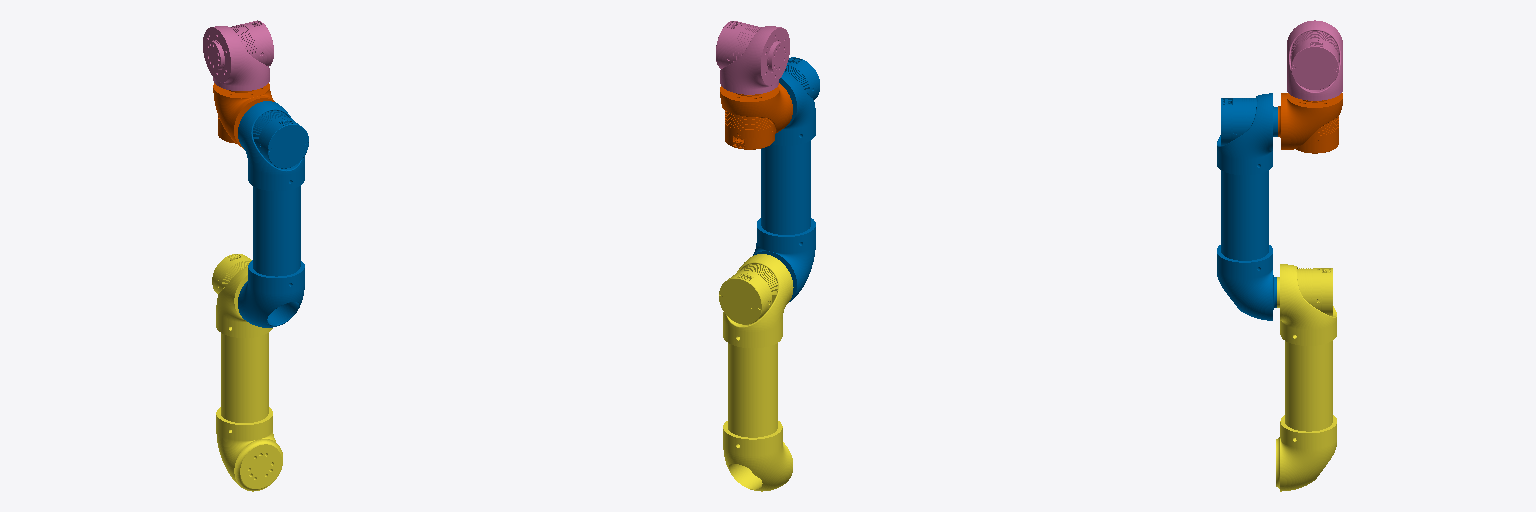
The robot description file, URDF, robot "ur5e_arm_only":
<?xml version="1.0" encoding="utf-8"?>
<robot name="ur5e_arm_only">

<!--Rotations
Clockwise 90: -1.57079632679
Counter Clockwise 90: 1.57079632679
180: 3.14159265359
-->

  <!-- ==================== UR5e Links ==================== -->
  <link name="base_link"/>

  <link name="base_link_inertia">
    <visual>
      <origin rpy="0 0 0" xyz="0 0 0"/>
      <geometry><mesh filename="package://description/meshes/6dof/base.stl" scale="0.001 0.001 0.001"/></geometry>
    </visual>
    <collision>
      <origin rpy="0 0 0" xyz="0 0 0"/>
      <geometry><mesh filename="package://description/meshes/6dof/base.stl" scale="0.001 0.001 0.001"/></geometry>
    </collision>
    <inertial>
      <mass value="4.0"/>
      <origin rpy="0 0 0" xyz="0 0 0"/>
      <inertia ixx="0.00443333156" ixy="0.0" ixz="0.0" iyy="0.00443333156" iyz="0.0" izz="0.0072"/>
    </inertial>
  </link>

  <link name="shoulder_link">
    <visual>
      <origin rpy="0 0 0" xyz="0 0 0"/>
      <geometry><mesh filename="package://description/meshes/6dof/shoulder.stl" scale="0.001 0.001 0.001"/></geometry>
    </visual>
    <collision>
      <origin rpy="0 0 0" xyz="0 0 0"/>
      <geometry><mesh filename="package://description/meshes/6dof/shoulder.stl" scale="0.001 0.001 0.001"/></geometry>
    </collision>
    <inertial>
      <mass value="3.7"/>
      <origin rpy="0 0 0" xyz="0 0 0"/>
      <inertia ixx="0.010267495893" ixy="0.0" ixz="0.0" iyy="0.010267495893" iyz="0.0" izz="0.00666"/>
    </inertial>
  </link>

  <link name="upper_arm_link">
    <visual>
      <origin rpy="0 0 0" xyz="0 0 0"/>
      <geometry><mesh filename="package://description/meshes/6dof/upperarm.stl" scale="0.001 0.001 0.001"/></geometry>
    </visual>
    <collision>
      <origin rpy="0 0 0" xyz="0 0 0"/>
      <geometry><mesh filename="package://description/meshes/6dof/upperarm.stl" scale="0.001 0.001 0.001"/></geometry>
    </collision>
    <inertial>
      <mass value="8.393"/>
      <origin rpy="0 0 0" xyz="0 0 0"/>
      <inertia ixx="0.133885781862" ixy="0.0" ixz="0.0" iyy="0.133885781862" iyz="0.0" izz="0.0151074"/>
    </inertial>
  </link>

  <link name="forearm_link">
    <visual>
      <origin rpy="0 0 0" xyz="0 0 0"/>
      <geometry><mesh filename="package://description/meshes/6dof/forearm.stl" scale="0.001 0.001 0.001"/></geometry>
    </visual>
    <collision>
      <origin rpy="0 0 0" xyz="0 0 0"/>
      <geometry><mesh filename="package://description/meshes/6dof/forearm.stl" scale="0.001 0.001 0.001"/></geometry>
    </collision>
    <inertial>
      <mass value="2.275"/>
      <origin rpy="0 0 0" xyz="0 0 0"/>
      <inertia ixx="0.0312093550996" ixy="0.0" ixz="0.0" iyy="0.0312093550996" iyz="0.0" izz="0.004095"/>
    </inertial>
  </link>

  <link name="wrist_1_link">
    <visual>
      <origin rpy="0 0 0" xyz="0 0 0"/>
      <geometry><mesh filename="package://description/meshes/6dof/wrist1.stl" scale="0.001 0.001 0.001"/></geometry>
    </visual>
    <collision>
      <origin rpy="0 0 0" xyz="0 0 0"/>
      <geometry><mesh filename="package://description/meshes/6dof/wrist1.stl" scale="0.001 0.001 0.001"/></geometry>
    </collision>
    <inertial>
      <mass value="1.219"/>
      <origin rpy="0 0 0" xyz="0 0 0"/>
      <inertia ixx="0.00255989897604" ixy="0.0" ixz="0.0" iyy="0.00255989897604" iyz="0.0" izz="0.0021942"/>
    </inertial>
  </link>

  <link name="wrist_2_link">
    <visual>
      <origin rpy="0 0 0" xyz="0 0 0"/>
      <geometry><mesh filename="package://description/meshes/6dof/wrist2.stl" scale="0.001 0.001 0.001"/></geometry>
    </visual>
    <collision>
      <origin rpy="0 0 0" xyz="0 0 0"/>
      <geometry><mesh filename="package://description/meshes/6dof/wrist2.stl" scale="0.001 0.001 0.001"/></geometry>
    </collision>
    <inertial>
      <mass value="1.219"/>
      <origin rpy="0 0 0" xyz="0 0 0"/>
      <inertia ixx="0.00255989897604" ixy="0.0" ixz="0.0" iyy="0.00255989897604" iyz="0.0" izz="0.0021942"/>
    </inertial>
  </link>

  <!-- wrist_3_link: flange (no mesh available) -->
  <link name="wrist_3_link">
    <inertial>
      <mass value="0.1"/>
      <origin rpy="0 0 0" xyz="0 0 0"/>
      <inertia ixx="0.0001" ixy="0.0" ixz="0.0" iyy="0.0001" iyz="0.0" izz="0.0001"/>
    </inertial>
  </link>

  <!-- tool0: end-effector frame -->
  <link name="tool0"/>

  <!-- ==================== UR5e Joints ==================== -->
  <joint name="base_link-base_link_inertia" type="fixed">
    <parent link="base_link"/>
    <child link="base_link_inertia"/>
    <origin rpy="0 0 3.14159265359" xyz="0 0 0"/>
  </joint>

  <joint name="shoulder_pan_joint" type="revolute">
    <parent link="base_link_inertia"/>
    <child link="shoulder_link"/>
    <origin rpy="0 0 0" xyz="0 0 0.0596"/>
    <axis xyz="0 0 1"/>
    <limit effort="25.0" lower="-6.28318530718" upper="6.28318530718" velocity="3.14159265359"/>
    <dynamics damping="0" friction="0"/>
  </joint>

  <joint name="shoulder_lift_joint" type="revolute">
    <parent link="shoulder_link"/>
    <child link="upper_arm_link"/>
    <origin rpy="0 0 0" xyz="0 -0.0606 0.080"/>
    <axis xyz="0 1 0"/>
    <limit effort="25.0" lower="-6.28318530718" upper="6.28318530718" velocity="3.14159265359"/>
    <dynamics damping="0" friction="0"/>
  </joint>

  <joint name="elbow_joint" type="revolute">
    <parent link="upper_arm_link"/>
    <child link="forearm_link"/>
    <origin rpy="0 0 0" xyz="0 0 0.215"/>
    <axis xyz="0 1 0"/>
    <limit effort="12.5" lower="-3.14159265359" upper="3.14159265359" velocity="3.14159265359"/>
    <dynamics damping="0" friction="0"/>
  </joint>

  <joint name="wrist_1_joint" type="revolute">
    <parent link="forearm_link"/>
    <child link="wrist_1_link"/>
    <origin rpy="0 0 0" xyz="0 -0.001 0.215"/>
    <axis xyz="0 1 0"/>
    <limit effort="12.5" lower="-6.28318530718" upper="6.28318530718" velocity="3.14159265359"/>
    <dynamics damping="0" friction="0"/>
  </joint>

  <joint name="wrist_2_joint" type="revolute">
    <parent link="wrist_1_link"/>
    <child link="wrist_2_link"/>
    <origin rpy="0 0 0" xyz="0 -0.0425 0.0375"/>
    <axis xyz="0 0 1"/>
    <limit effort="12.5" lower="-6.28318530718" upper="6.28318530718" velocity="3.14159265359"/>
    <dynamics damping="0" friction="0"/>
  </joint>

  <joint name="wrist_3_joint" type="revolute">
    <parent link="wrist_2_link"/>
    <child link="wrist_3_link"/>
    <origin rpy="0 0 0" xyz="0.0375 0 0.043"/>
    <axis xyz="1 0 0"/>
    <limit effort="28.0" lower="-6.28318530718" upper="6.28318530718" velocity="3.14159265359"/>
    <dynamics damping="0" friction="0"/>
  </joint>

  <joint name="wrist_3_link-tool0_fixed_joint" type="fixed">
    <parent link="wrist_3_link"/>
    <child link="tool0"/>
    <origin rpy="0 0 0" xyz="0 0 0"/>
  </joint>

</robot>

--- Render facts (derived) ---
3 views of the same robot in one strip: view 1: azimuth 30°, elevation 25°; view 2: azimuth 150°, elevation 25°; view 3: azimuth 270°, elevation 25° (orthographic).
Robot: ur5e_arm_only — 9 links, 8 joints (6 revolute, 2 fixed); root link base_link; default pose: all joints at 0.
Visible links, largest first — view 1: forearm_link, upper_arm_link, wrist_2_link, wrist_1_link; view 2: upper_arm_link, forearm_link, wrist_2_link, wrist_1_link; view 3: upper_arm_link, forearm_link, wrist_2_link, wrist_1_link.
Link boxes in pixels (x1,y1,x2,y2): forearm_link: [238, 101, 308, 327]; upper_arm_link: [212, 254, 282, 491]; wrist_2_link: [203, 20, 273, 90]; wrist_1_link: [213, 83, 274, 148]; upper_arm_link: [719, 254, 793, 491]; forearm_link: [753, 57, 819, 301]; wrist_2_link: [716, 21, 789, 94]; wrist_1_link: [720, 83, 792, 149]; upper_arm_link: [1276, 264, 1336, 491]; forearm_link: [1217, 93, 1277, 320]; wrist_2_link: [1287, 20, 1342, 100]; wrist_1_link: [1278, 93, 1342, 153].
Size in the robot's own frame: 0.07 by 0.145 by 0.575 metres.
4 mesh visuals loaded from 6 distinct referenced files (4 binary STL); not drawn: 2 (reference not matched to a file when rendering).
